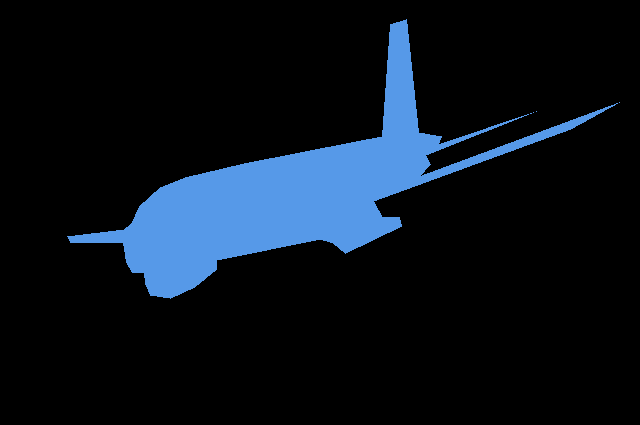Airplane: (67, 19, 620, 298)
